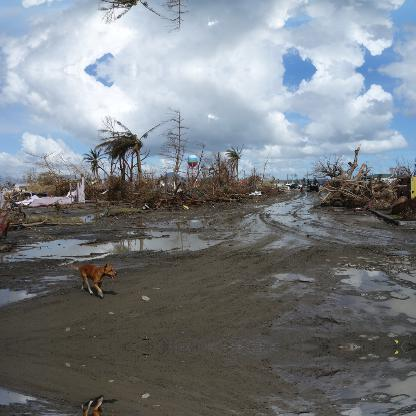Dog: (70, 261, 118, 297), (70, 395, 119, 415)
